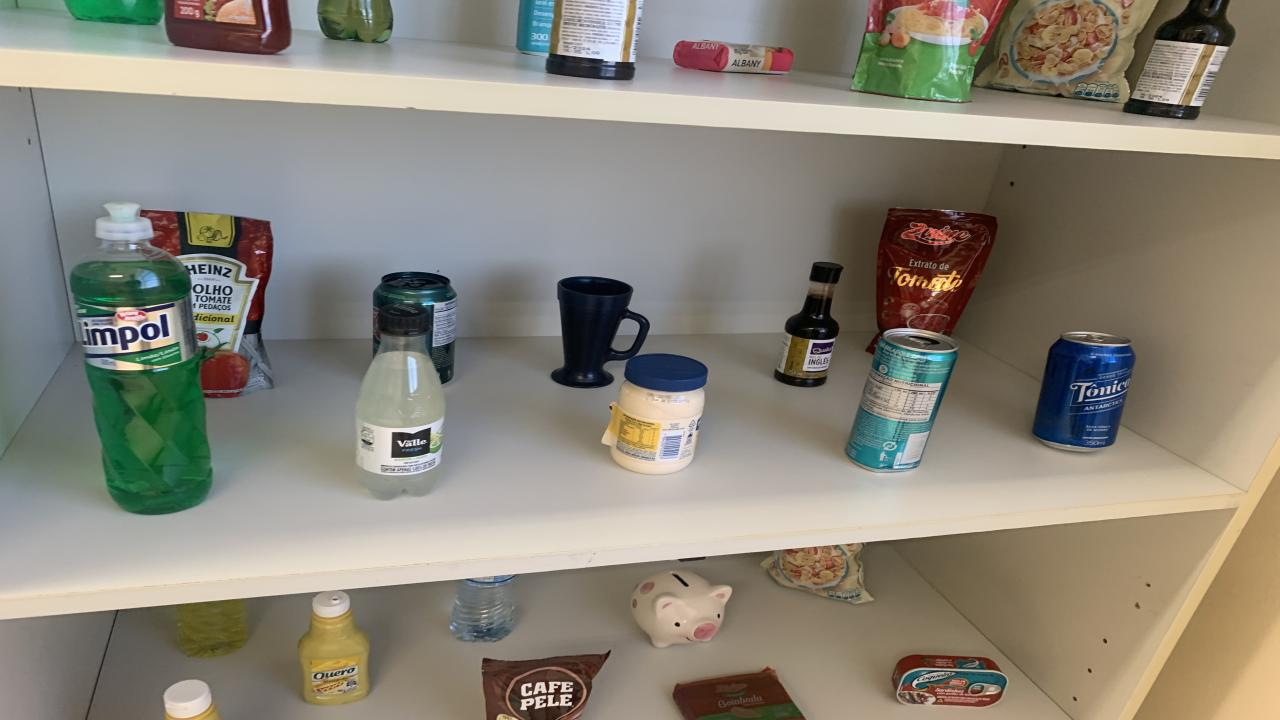Cleaner-Cleanup_Items: (515, 0, 555, 56)
Coffee-Pantry_Items: (482, 652, 610, 720)
Detergent-Cleanup_Items: (70, 202, 212, 514), (178, 598, 248, 658)
English_Sauce-Pantry_Items: (1125, 0, 1235, 120), (775, 262, 842, 386), (545, 0, 642, 81)
Flakes-Snacks: (975, 0, 1158, 103), (760, 544, 872, 604)
Guarana-Drinks: (318, 0, 392, 43)
Guarana_Can-Drinks: (372, 272, 458, 382)
Guava-Snacks: (672, 668, 802, 720)
Ketchup-Pantry_Items: (165, 0, 290, 54)
Mayonnaise-Pantry_Items: (602, 354, 708, 474)
Mustard-Pantry_Items: (298, 591, 370, 705), (162, 679, 220, 720)
Pig_Safe-Miscellaneous: (632, 570, 732, 647)
Soap-Cleanup_Items: (672, 41, 792, 75)
Soda-Drinks: (355, 304, 445, 499)
Tea-Drinks: (845, 330, 958, 472)
Tomato_Sauce-Pantry_Items: (142, 210, 272, 398), (850, 0, 1008, 103), (875, 208, 998, 334)
Tonic-Drinks: (1032, 332, 1135, 452)
Tuna_Can-Pantry_Items: (892, 654, 1008, 707)
Water_Bottle-Drinks: (450, 574, 515, 641)
